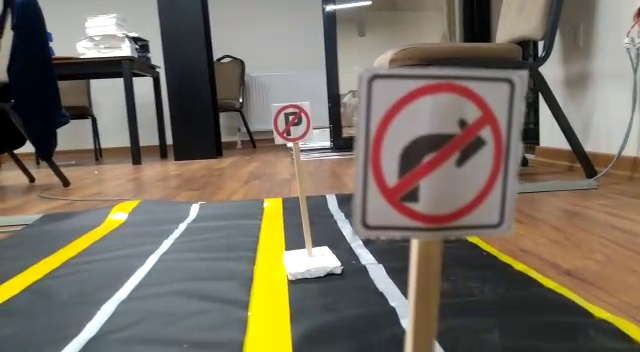park_yapilmaz: (268, 103, 315, 143)
saga_donulmez: (362, 76, 515, 231)
